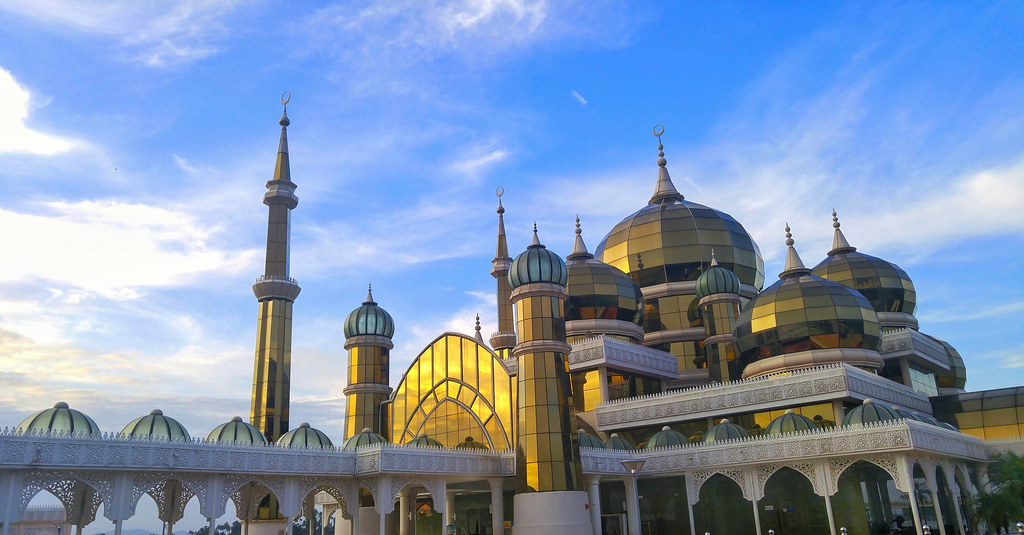Mosque: (239, 83, 958, 518)
